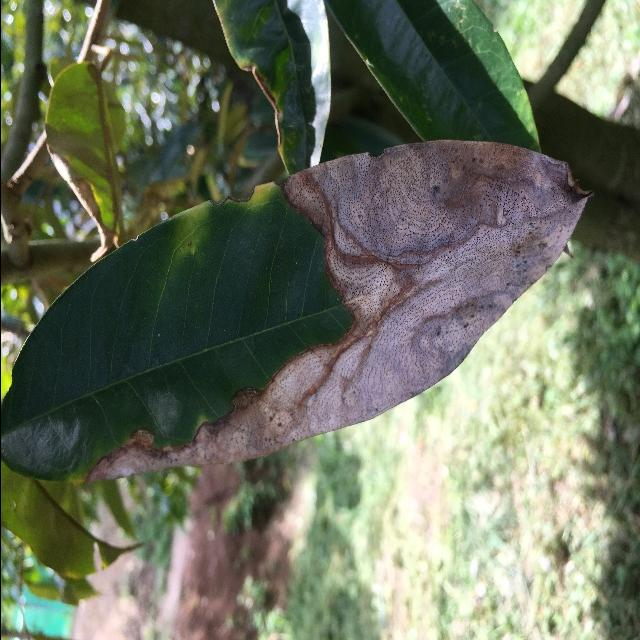Leaf Blight: (0, 131, 598, 489)
